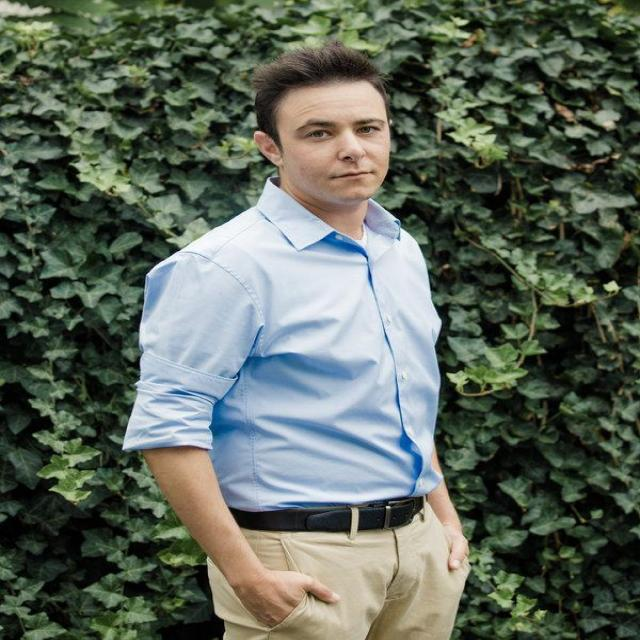mobile_phonerotation: (120, 42, 473, 638)
